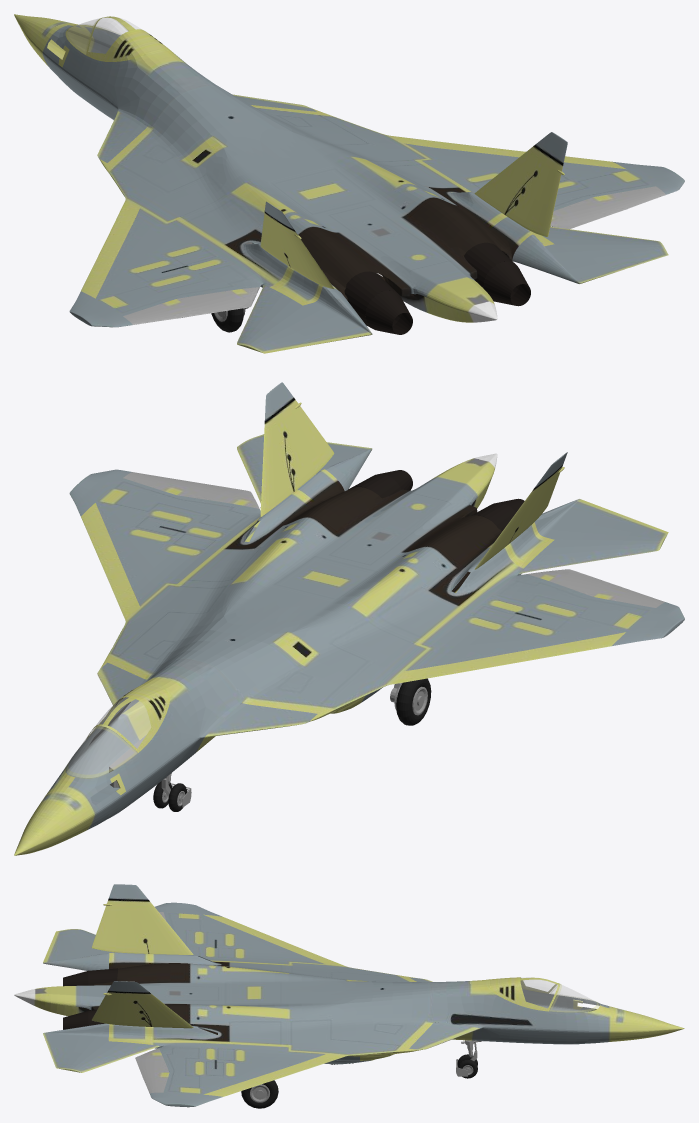
The picture shows the model from 3 angles, top to bottom: view 1: azimuth 30°, elevation 25°; view 2: azimuth 150°, elevation 25°; view 3: azimuth 270°, elevation 25°; orthographic projection. The views are drawn at different scales.
Parts seen in each view (by area): view 1: airframe, elevator_l, elevator_r, nozzle, rudder_r, flap_l, flap_r, canopy_frame, rudder_l, aileron_l, aileron_r, canopy; view 2: airframe, elevator_l, flap_l, rudder_r, flap_r, canopy_frame, elevator_r, rudder_l, nozzle, canopy, gear_left_tyre, aileron_l (+1 smaller); view 3: airframe, rudder_l, elevator_r, rudder_r, flap_r, canopy_frame, elevator_l, nozzle, flap_l, canopy, gear_right_tyre, aileron_r.
Boxes of the visible parts, left/top/right/bottom form: airframe: left=14, top=14, right=684, bottom=327; elevator_l: left=237, top=285, right=372, bottom=353; elevator_r: left=512, top=226, right=668, bottom=283; nozzle: left=344, top=242, right=530, bottom=334; rudder_r: left=474, top=132, right=567, bottom=236; flap_l: left=81, top=111, right=259, bottom=315; flap_r: left=232, top=94, right=625, bottom=229; canopy_frame: left=66, top=16, right=169, bottom=61; rudder_l: left=260, top=201, right=333, bottom=289; aileron_l: left=123, top=299, right=195, bottom=324; aileron_r: left=594, top=186, right=665, bottom=213; canopy: left=88, top=17, right=141, bottom=53; airframe: left=14, top=453, right=684, bottom=855; elevator_l: left=518, top=499, right=668, bottom=574; flap_l: left=205, top=569, right=625, bottom=737; rudder_r: left=260, top=382, right=334, bottom=516; flap_r: left=81, top=482, right=259, bottom=714; canopy_frame: left=66, top=684, right=170, bottom=778; elevator_r: left=237, top=434, right=372, bottom=503; rudder_l: left=474, top=452, right=567, bottom=569; nozzle: left=348, top=470, right=524, bottom=530; canopy: left=89, top=697, right=150, bottom=748; gear_left_tyre: left=396, top=678, right=431, bottom=725; aileron_l: left=594, top=584, right=665, bottom=607; airframe: left=14, top=902, right=684, bottom=1107; rudder_l: left=91, top=884, right=193, bottom=954; elevator_r: left=43, top=1023, right=160, bottom=1072; rudder_r: left=92, top=981, right=193, bottom=1028; flap_r: left=135, top=1022, right=479, bottom=1096; canopy_frame: left=486, top=977, right=599, bottom=1012; elevator_l: left=43, top=929, right=116, bottom=970; nozzle: left=63, top=968, right=117, bottom=1029; flap_l: left=203, top=914, right=432, bottom=982; canopy: left=521, top=977, right=557, bottom=1007; gear_right_tyre: left=241, top=1080, right=278, bottom=1108; aileron_r: left=141, top=1072, right=169, bottom=1093.
Bounding box in the file's own units: 14.37 × 4.8 × 20.25.
5 materials, 4 textured.
